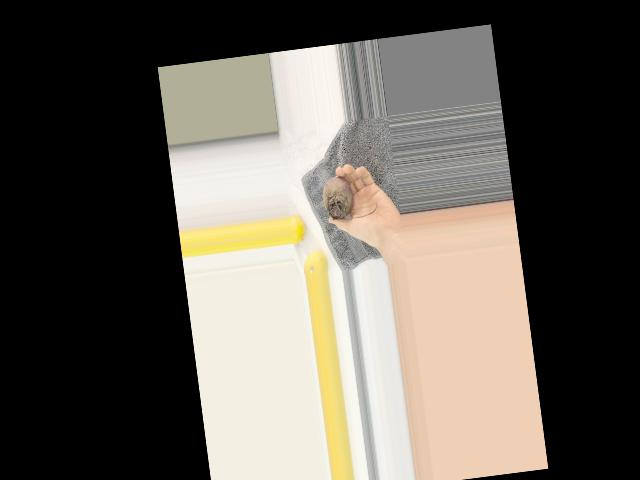beet: (320, 171, 378, 220)
